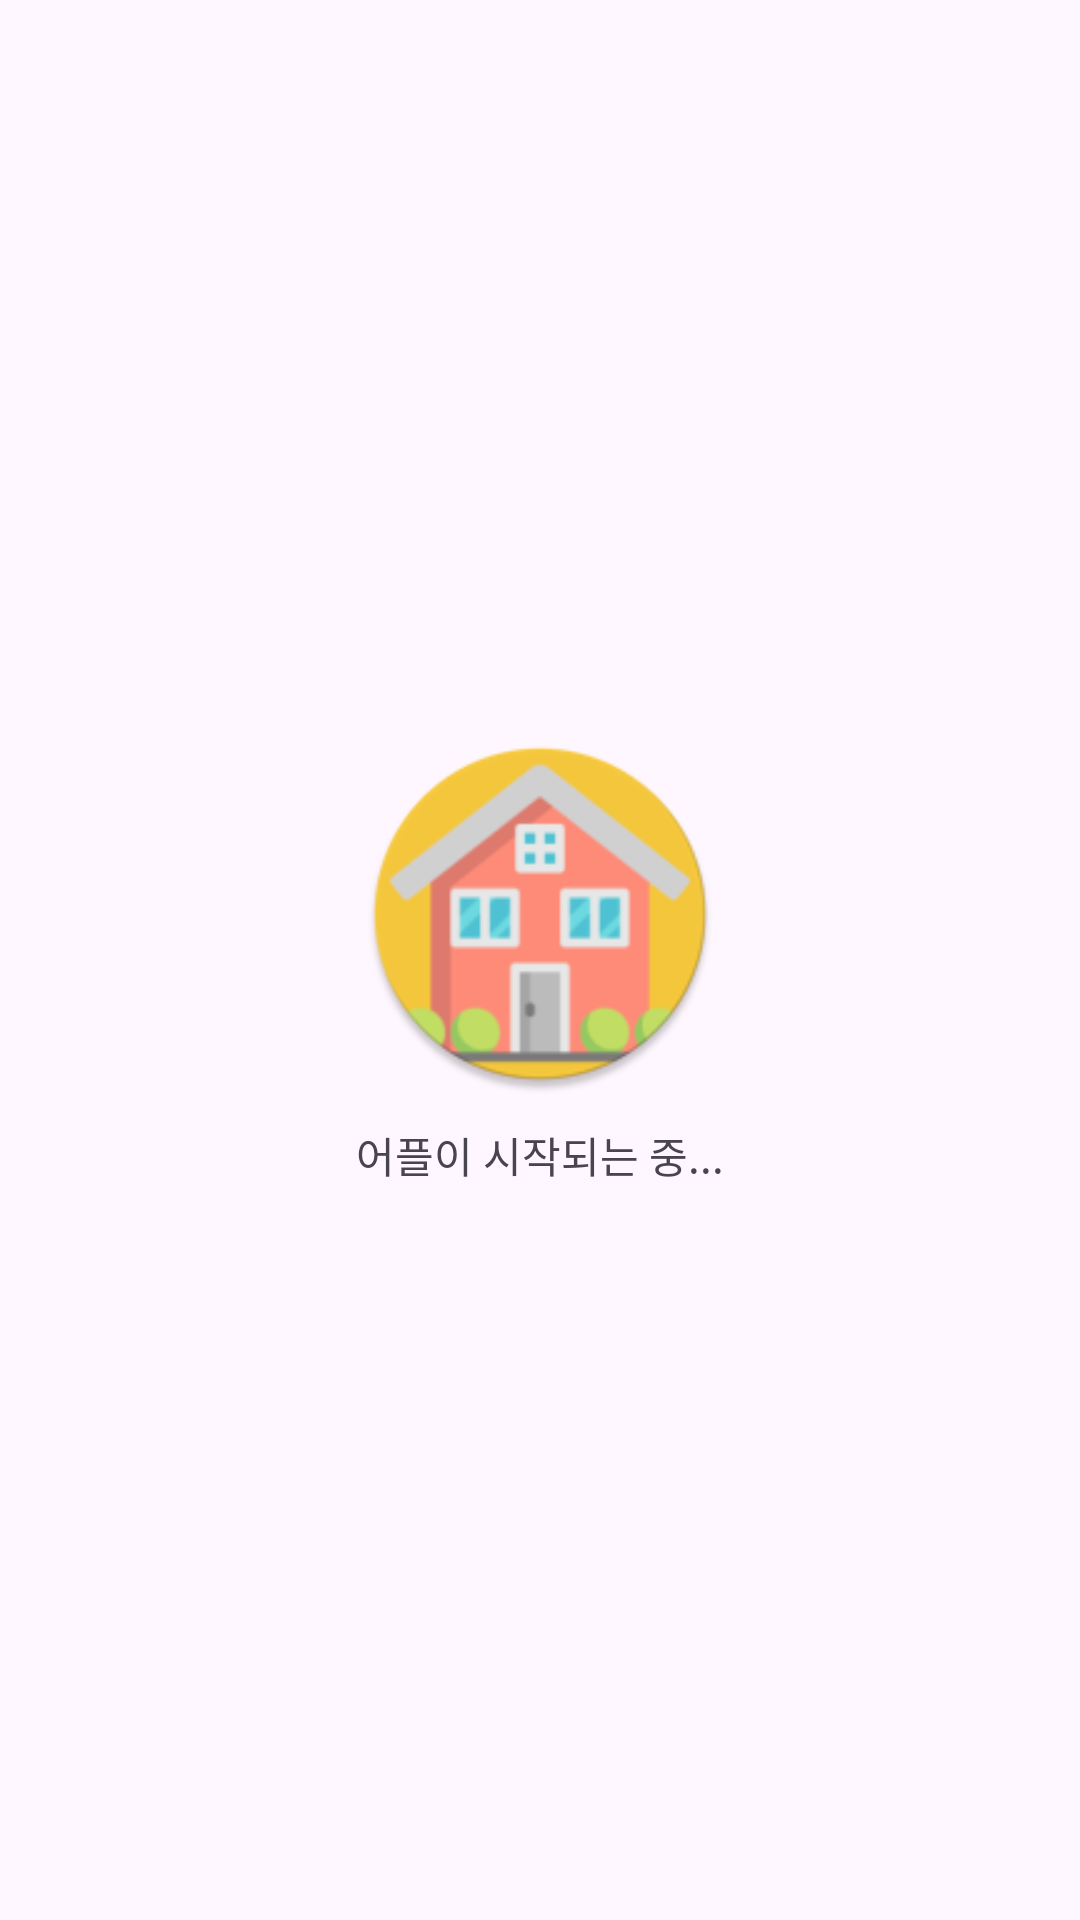

Screen size 1080 × 1920. Icon name, then its center in pixels as [x,y]:
house round: [540,917]
